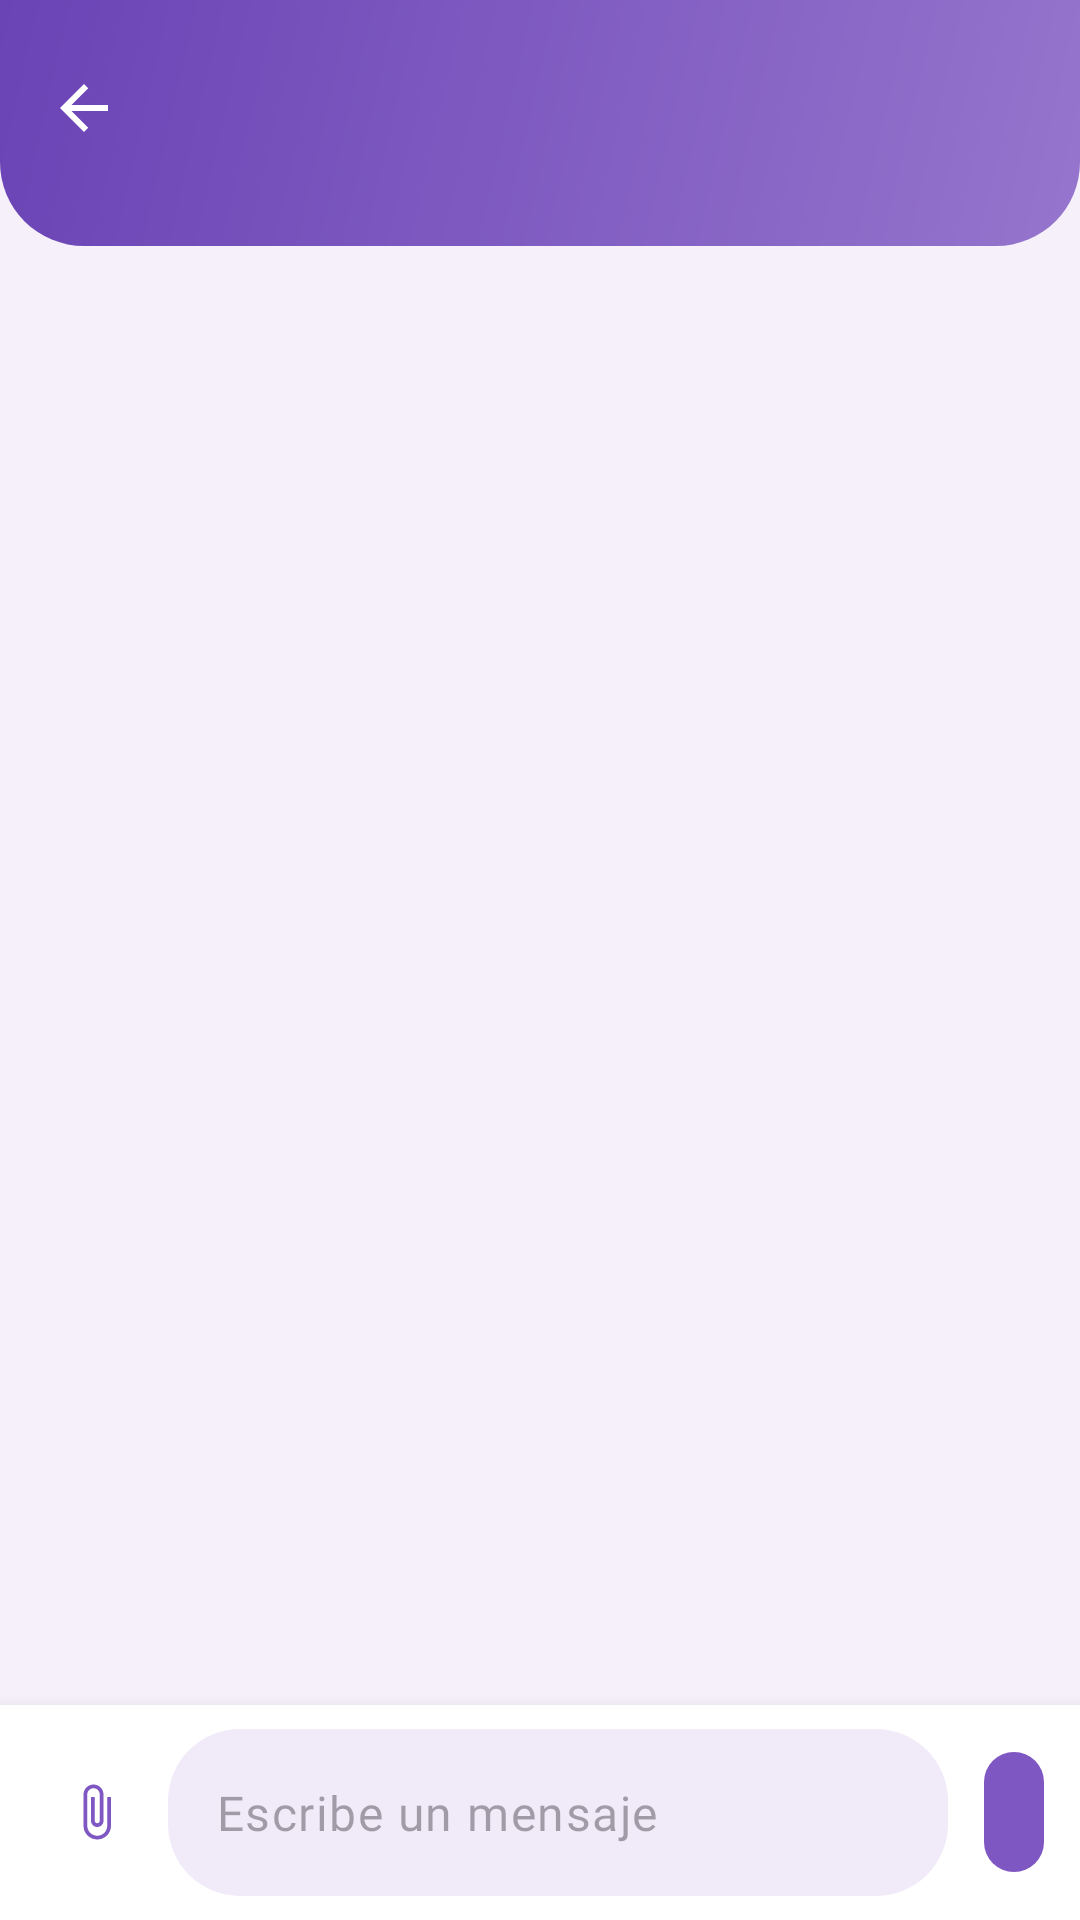

Screen size 1080×1920. Icon name, then its box in pixels as (x1, y1, x2, y2):
Adjuntar imagen: (83, 1784, 111, 1840)
Volver: (60, 84, 108, 132)
